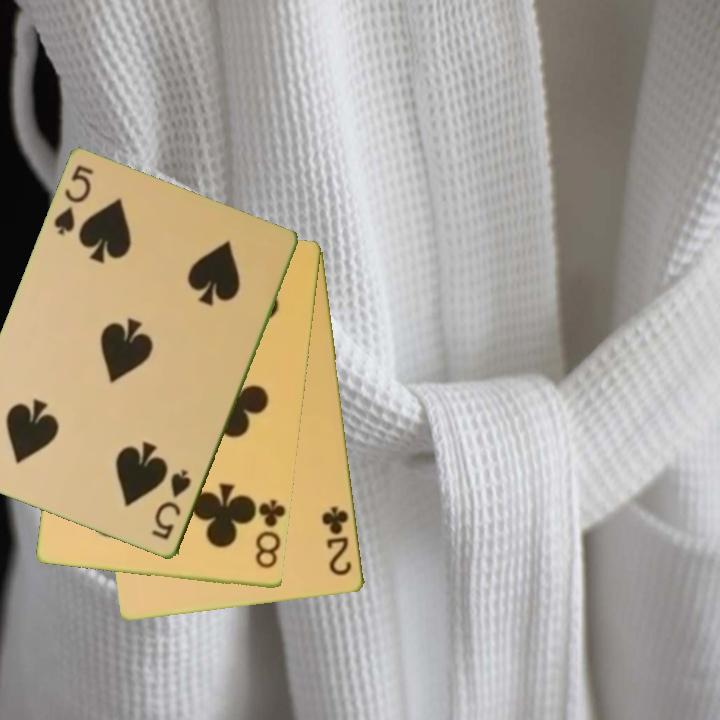2c: (319, 503, 355, 579)
5s: (148, 466, 195, 544), (50, 161, 97, 239)
8c: (251, 496, 288, 572)
